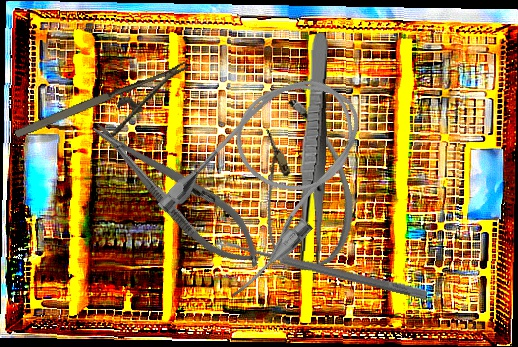Cannula: (145, 50, 394, 306), (231, 92, 370, 278)
Dressing Forceps: (296, 32, 331, 269)
Needle Holder: (79, 105, 276, 282), (12, 61, 202, 168)
Surgical Spoon: (216, 237, 429, 300)
